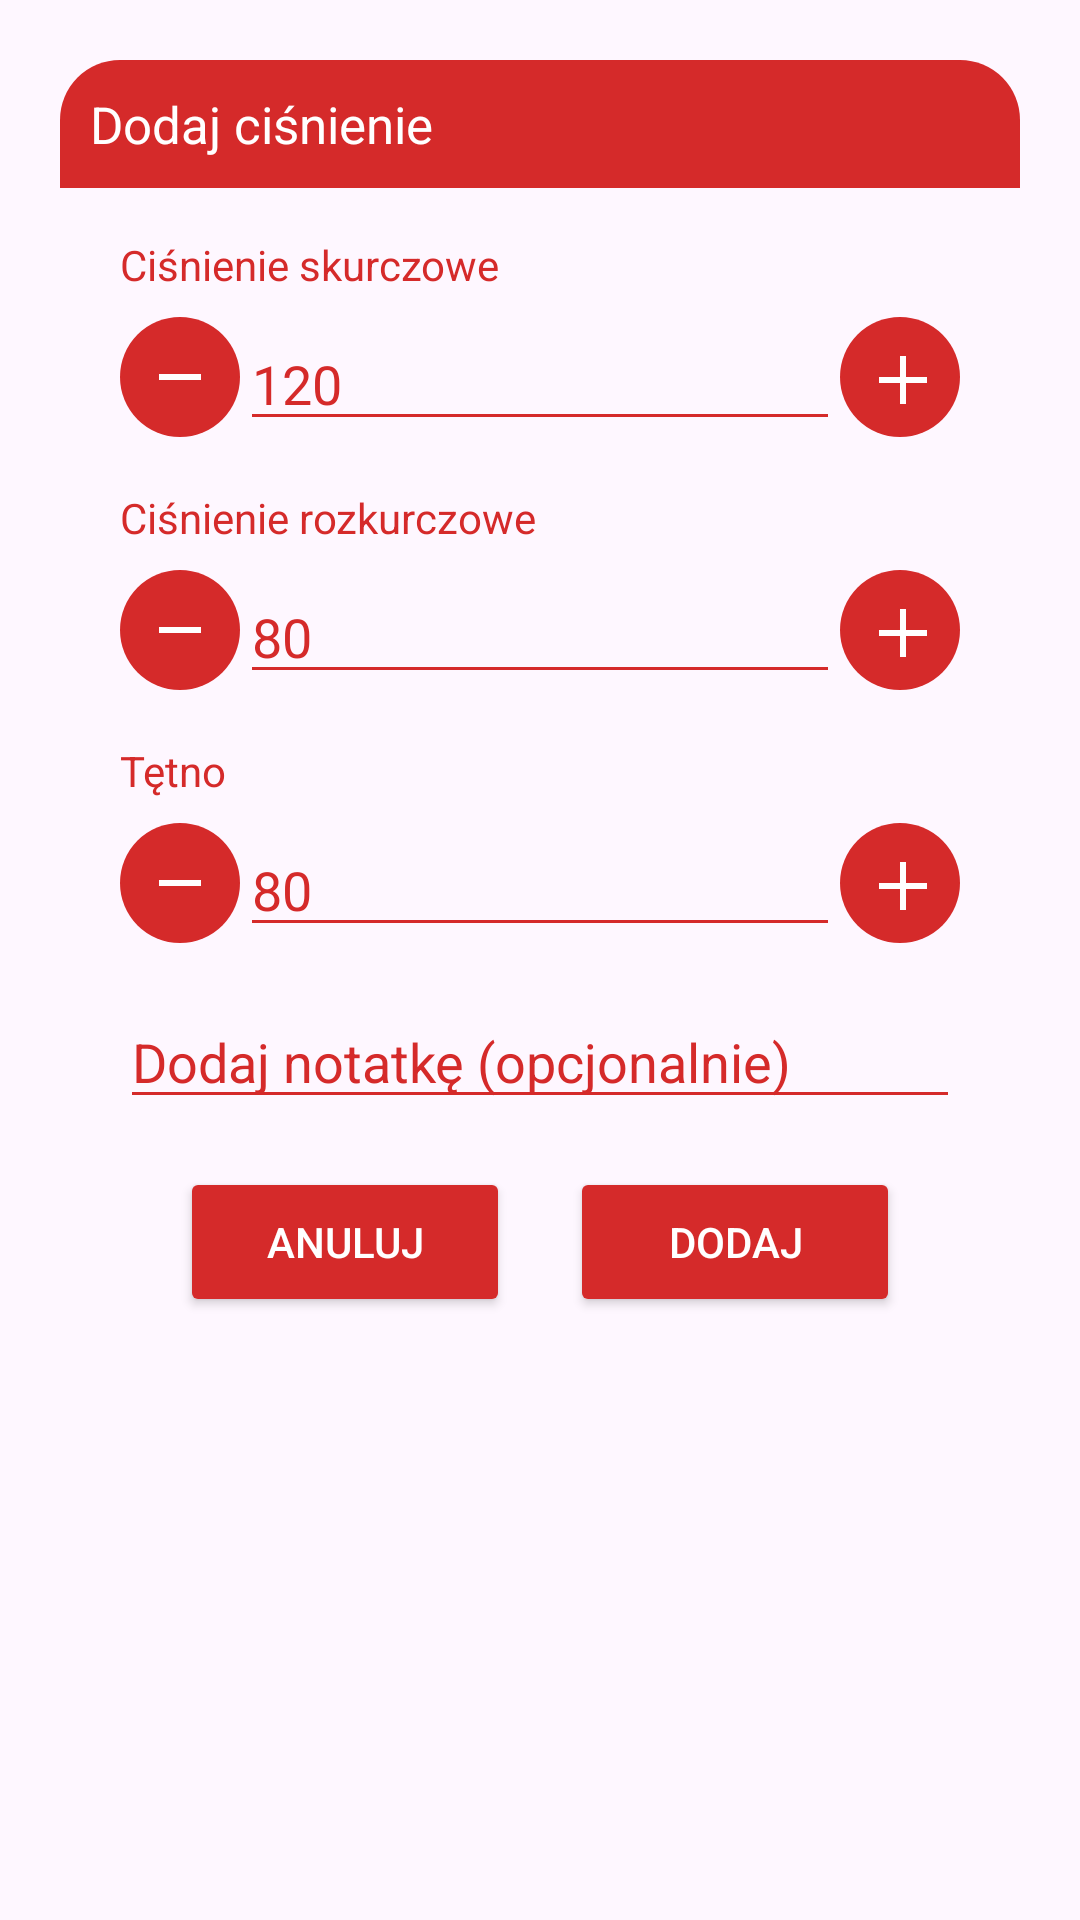

Locate icon controls on the screen. Image size 1080*1920, boxes as Rect(x1, y1, x2, y2).
minus: Rect(120, 317, 240, 437), Rect(120, 570, 240, 690), Rect(120, 823, 240, 943)
plus: Rect(840, 317, 960, 437), Rect(840, 570, 960, 690), Rect(840, 823, 960, 943)
